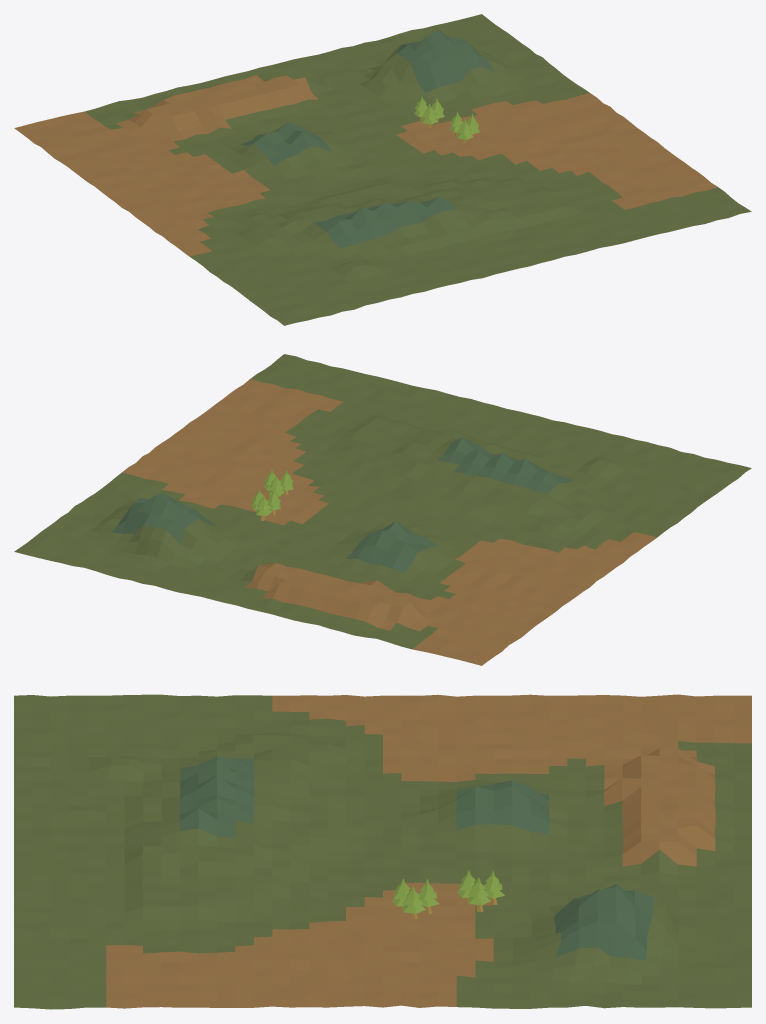
File: terrain-01.glb
3 views of the same model, one above another, from view 1: azimuth 30°, elevation 25°; view 2: azimuth 150°, elevation 25°; view 3: azimuth 270°, elevation 25° (orthographic). The views are drawn at different scales.
Visible parts, largest first — view 1: plane-01; view 2: plane-01; view 3: plane-01.
Boxes of the visible parts, <box> form: plane-01: <box>14,14,751,325</box>; plane-01: <box>14,354,751,665</box>; plane-01: <box>14,694,751,1009</box>.
Size of the model in its own units: 144 by 13.28 by 144.
